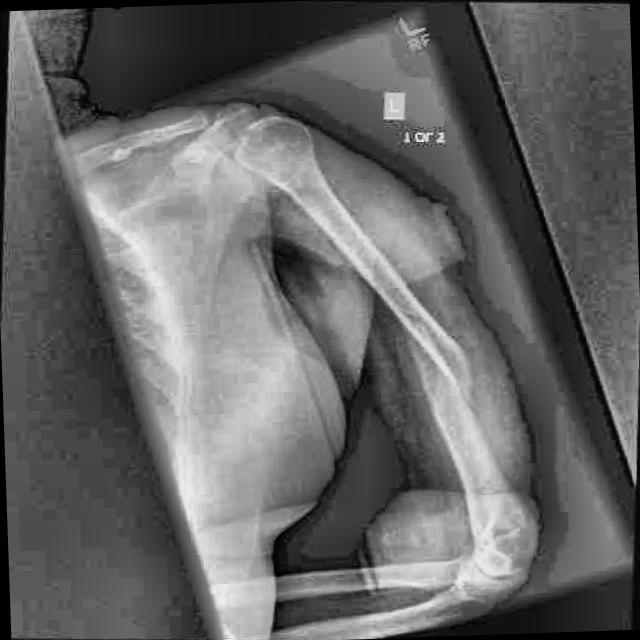humerus: (379, 292, 504, 434)
